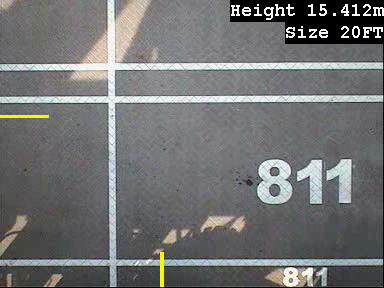groundmarker_2: (193, 42, 226, 111), (195, 209, 228, 277)
